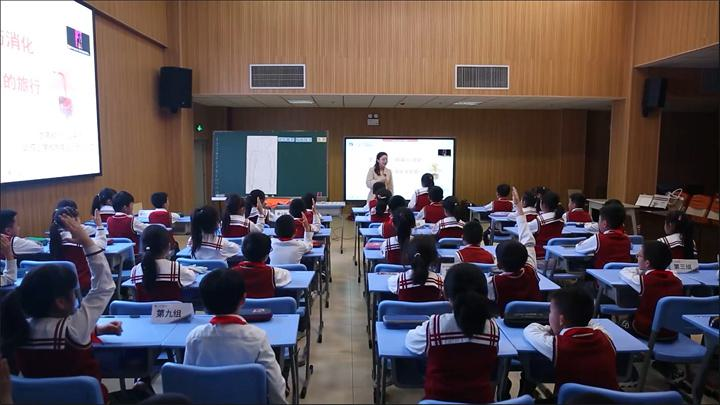hands-up: (27, 215, 116, 349), (501, 185, 553, 301), (268, 214, 323, 276), (228, 190, 272, 237), (286, 195, 325, 232)
listen: (419, 264, 495, 390), (188, 269, 275, 364), (133, 221, 201, 294), (623, 240, 684, 308), (385, 234, 445, 295), (579, 199, 632, 260)
stand: (415, 168, 438, 221)
